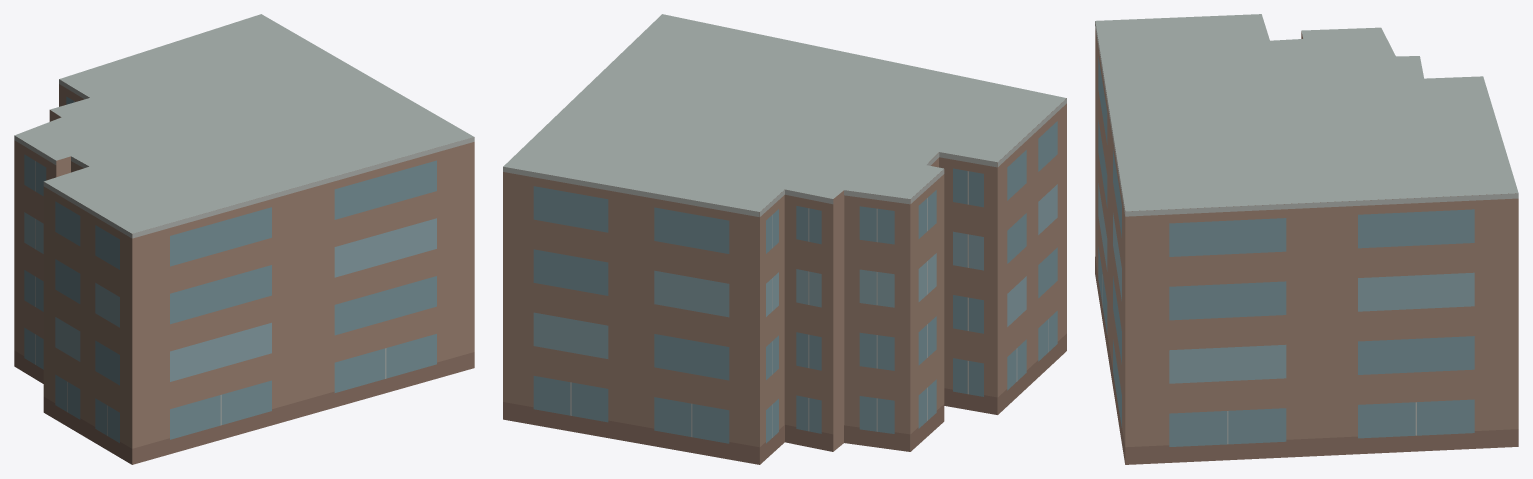
Rendered from survey-upis-32677788.glb.
3 views of the same model, side by side, from view 1: azimuth 30°, elevation 25°; view 2: azimuth 150°, elevation 25°; view 3: azimuth 270°, elevation 25° (orthographic). The views are drawn at different scales.
Visible parts, largest first — view 1: survey-upis-32677788.tmp; view 2: survey-upis-32677788.tmp; view 3: survey-upis-32677788.tmp.
Boxes of the visible parts, box(x1,y1,x2,y2) form: survey-upis-32677788.tmp: box(14, 14, 474, 464); survey-upis-32677788.tmp: box(503, 14, 1066, 464); survey-upis-32677788.tmp: box(1095, 14, 1518, 464).
Size of the model in its own units: 19.77 by 11.83 by 17.92.
